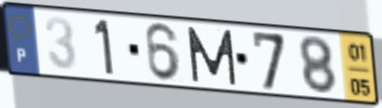1: (92, 18, 116, 77)
3: (43, 15, 80, 73)
6: (143, 20, 184, 84)
7: (250, 29, 287, 93)
8: (297, 33, 339, 97)
M: (184, 25, 240, 87)
